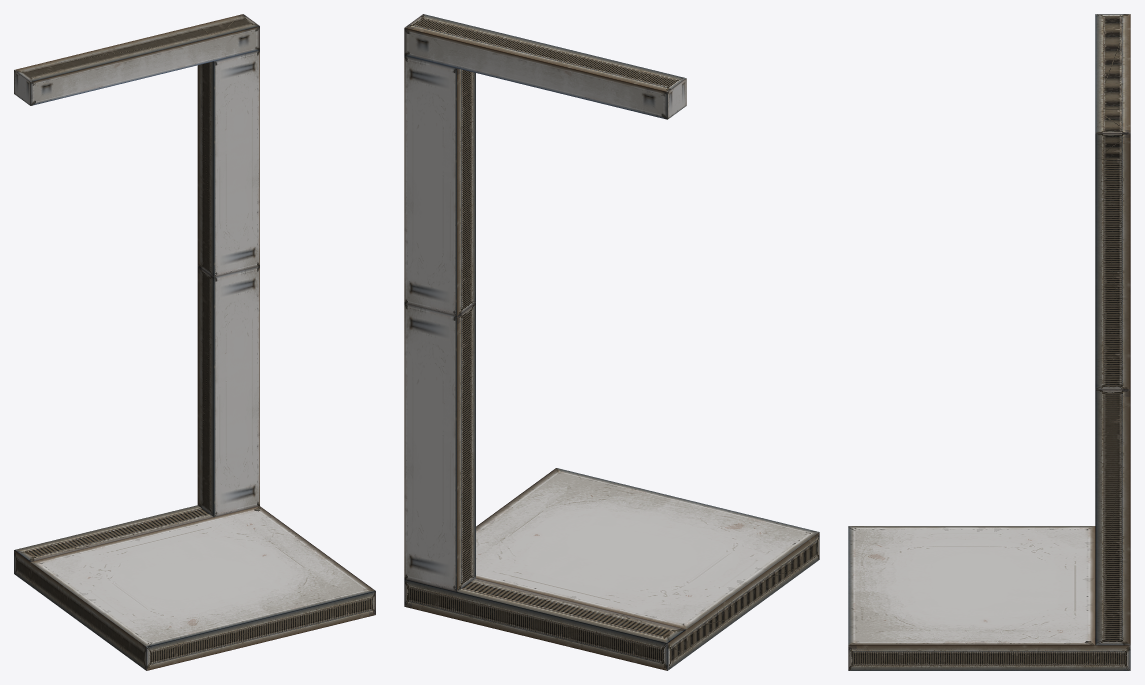
File: scifi_floor_portal_big_R.FBX
3 views of the same model, side by side, from view 1: azimuth 30°, elevation 25°; view 2: azimuth 150°, elevation 25°; view 3: azimuth 270°, elevation 25° (orthographic). The views are drawn at different scales.
Parts seen in each view (by area): view 1: Plane193; view 2: Plane193; view 3: Plane193.
Boxes of the visible parts, left/top/right/bottom form: Plane193: left=14, top=14, right=375, bottom=670; Plane193: left=404, top=14, right=819, bottom=670; Plane193: left=848, top=14, right=1130, bottom=670.
Size of the model in its own units: 254 by 533 by 254.
